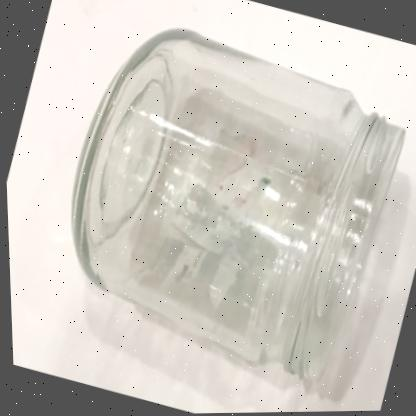Glass: (69, 28, 403, 383)
